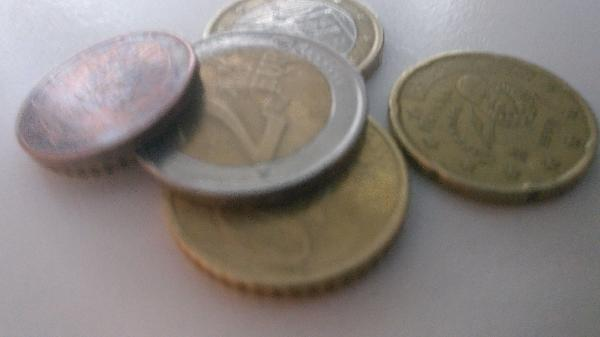Fifty Cent: (160, 116, 401, 297)
Five Cent: (11, 27, 207, 171)
One Euro: (202, 1, 386, 77)
Twenty Cent: (392, 48, 597, 206)
Two Euro: (143, 31, 368, 196)
